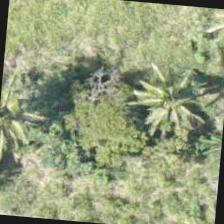Kelapa_Sawit: (114, 48, 212, 146), (0, 71, 52, 166)
